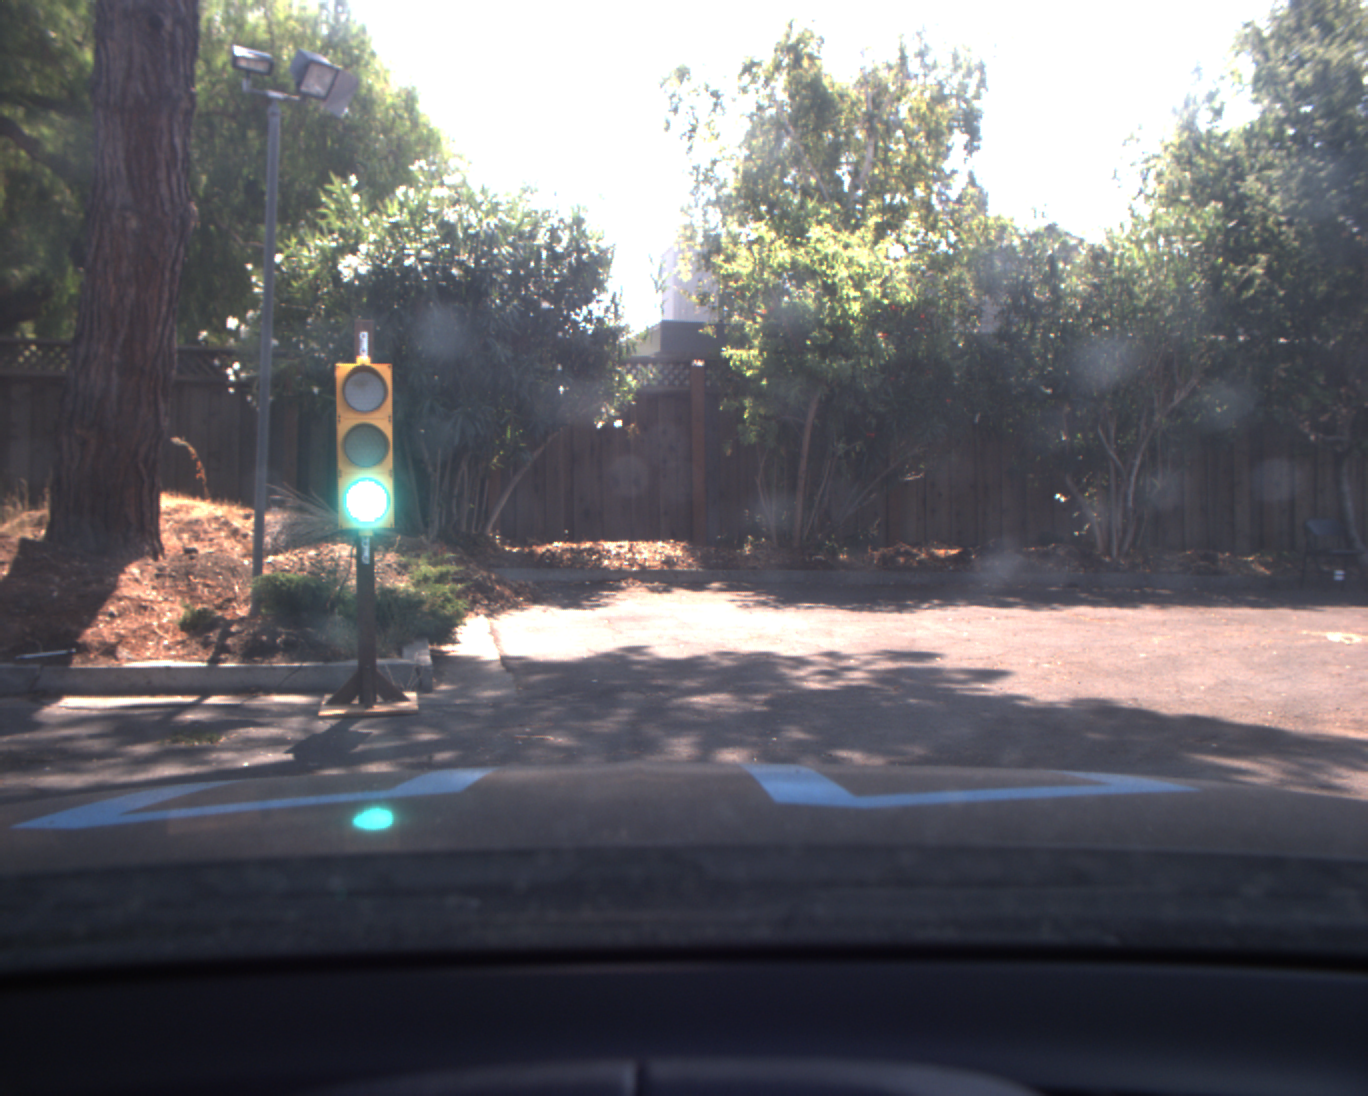green: (332, 358, 399, 535)
